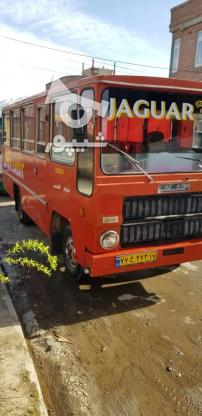car: (114, 250, 155, 268)
